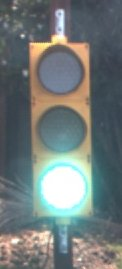Green: (13, 25, 111, 229)
